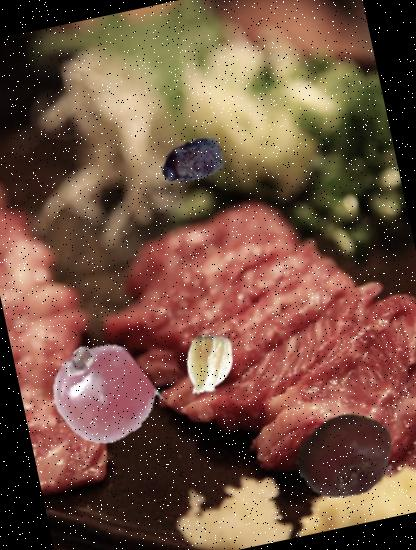Dates: (153, 123, 230, 200)
Nectarine: (288, 398, 404, 514)
Physalis: (174, 330, 245, 401)
Redcurrant: (42, 334, 161, 453)
